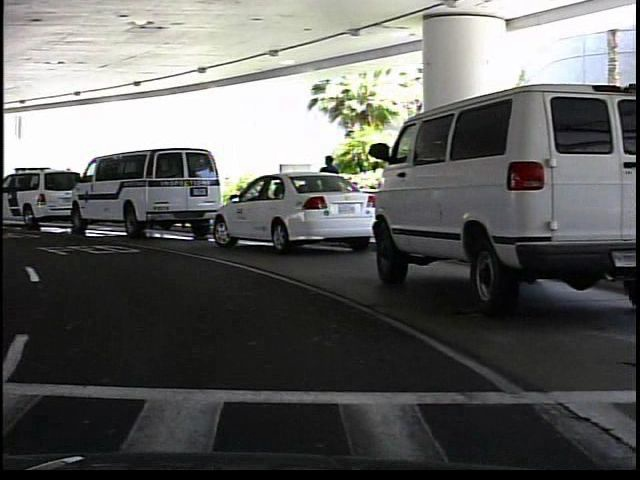person: (316, 150, 345, 231)
